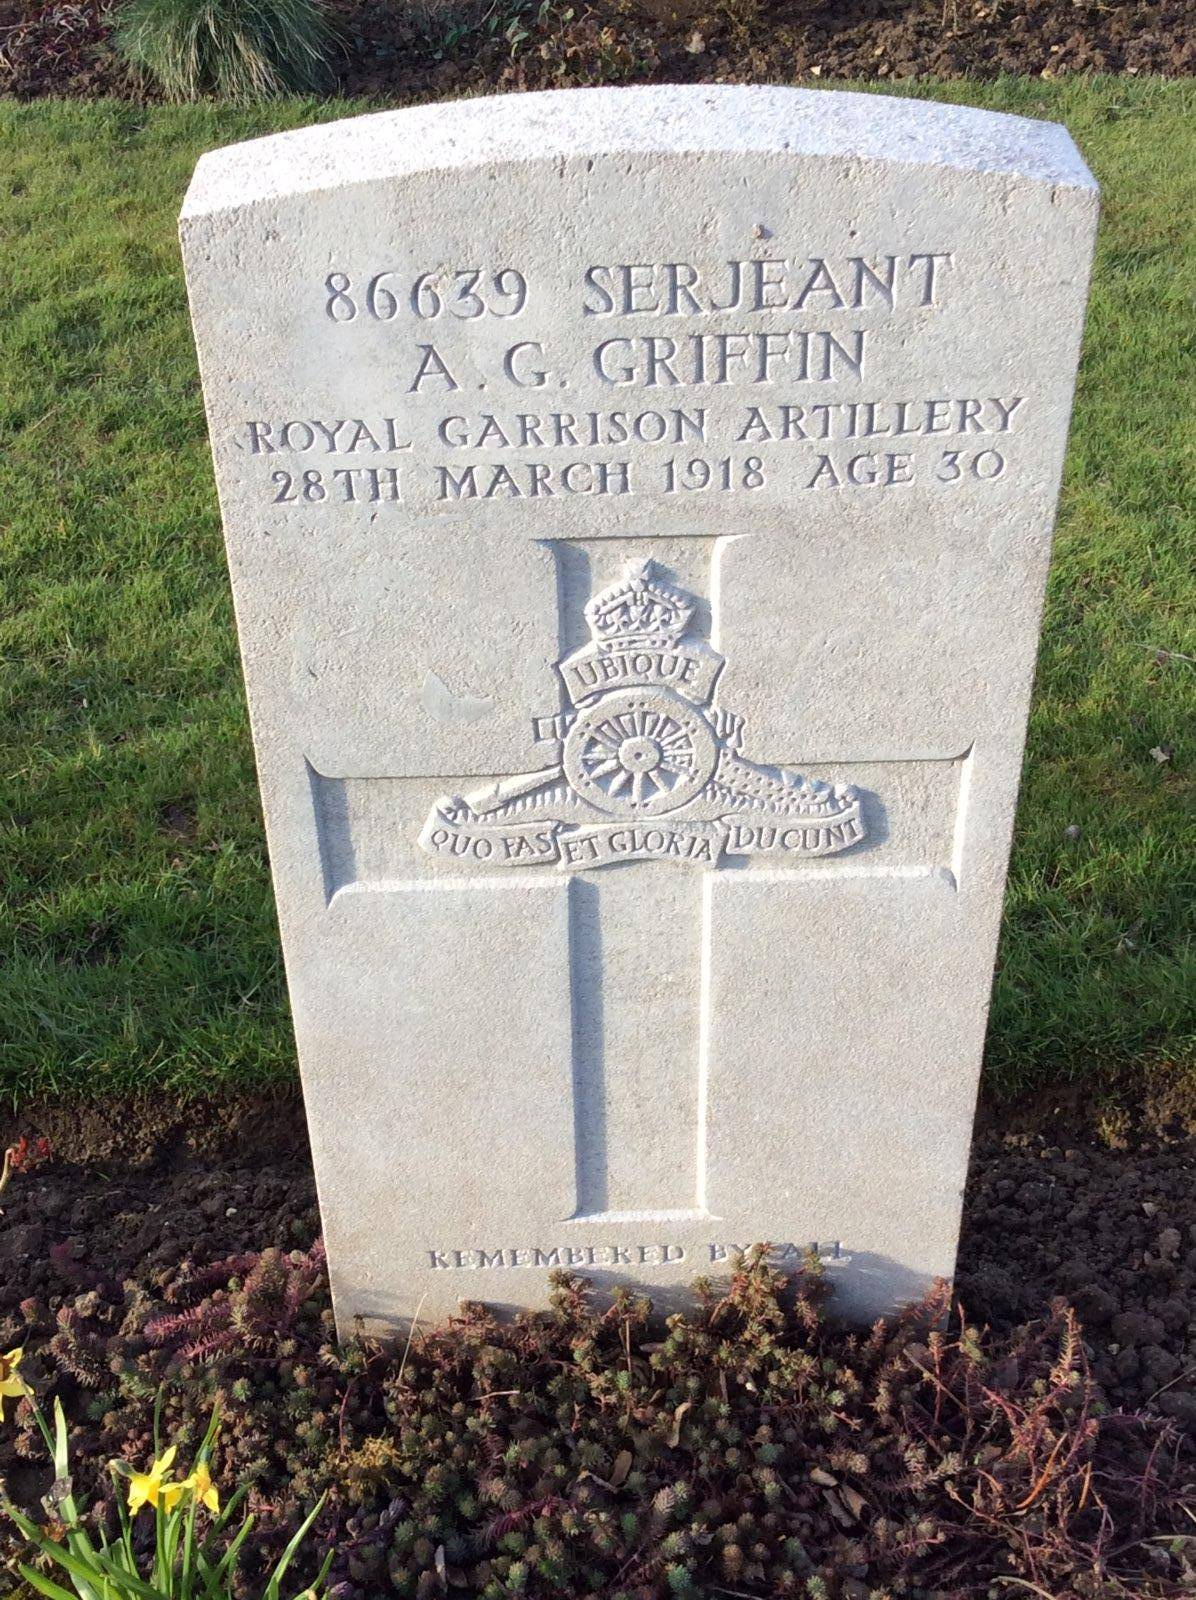upright: (173, 89, 1095, 1331)
